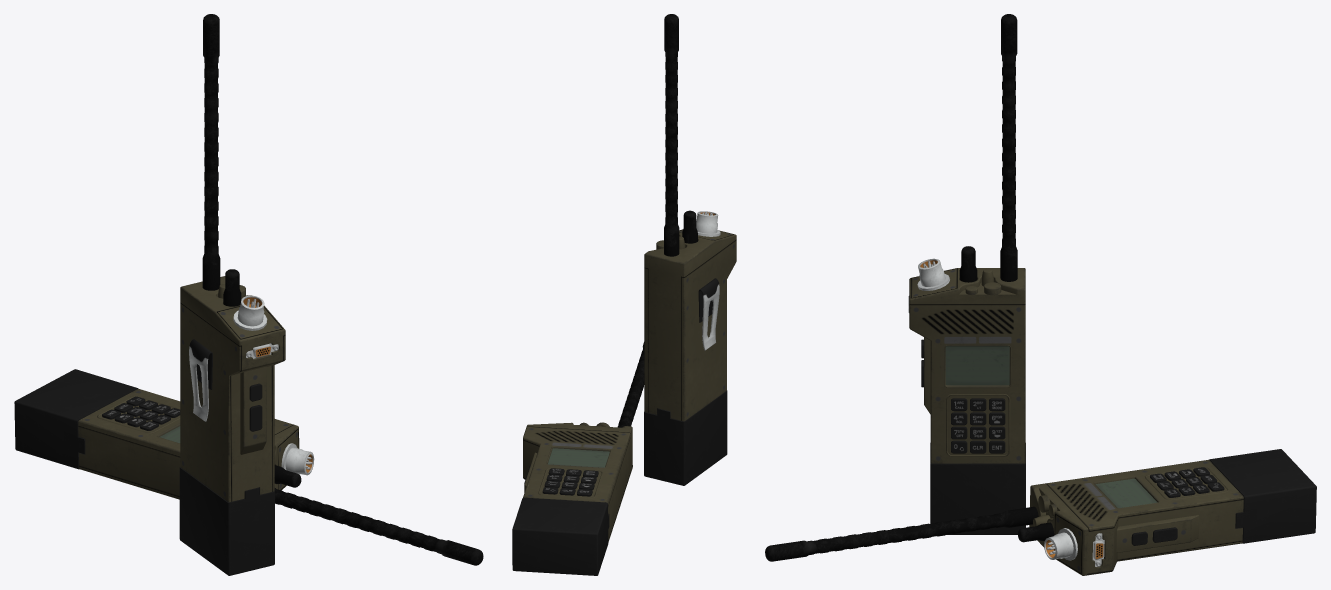
The model's file is Military_Radio.glb.
3 views of the same model, side by side, from view 1: azimuth 30°, elevation 25°; view 2: azimuth 150°, elevation 25°; view 3: azimuth 270°, elevation 25° (orthographic). The views are drawn at different scales.
Parts seen in each view (by area): view 1: Radio_V2_1_Military Radio_0, Radio_V2_1_2_Military Radio_0; view 2: Radio_V2_1_Military Radio_0, Radio_V2_1_2_Military Radio_0; view 3: Radio_V2_1_Military Radio_0, Radio_V2_1_2_Military Radio_0.
Part boxes in pixels (x1,y1,x2,y2): Radio_V2_1_Military Radio_0: (179, 14, 285, 575); Radio_V2_1_2_Military Radio_0: (14, 369, 483, 565); Radio_V2_1_Military Radio_0: (644, 14, 736, 485); Radio_V2_1_2_Military Radio_0: (512, 342, 644, 575); Radio_V2_1_Military Radio_0: (908, 14, 1025, 534); Radio_V2_1_2_Military Radio_0: (765, 449, 1316, 575).
Size of the model in its own units: 0.1326 by 0.3239 by 0.3185.
1 material, 1 textured.
